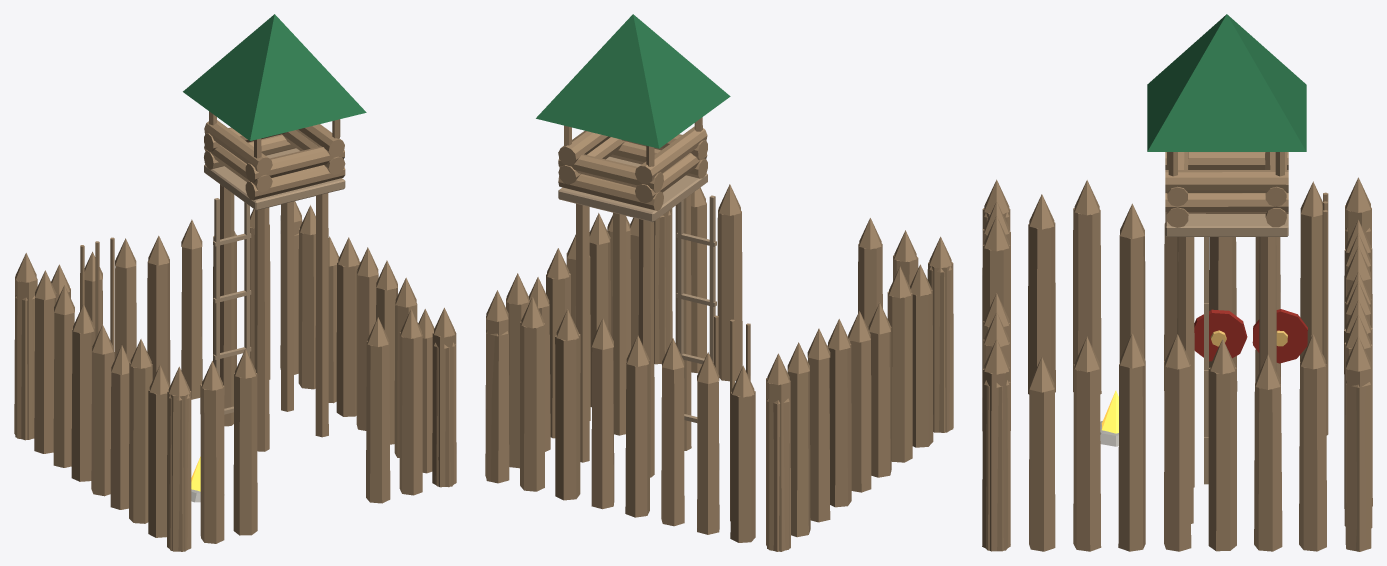
Rendered from bld_zastava_e2.glb.
3 views of the same model, side by side, from view 1: azimuth 30°, elevation 25°; view 2: azimuth 150°, elevation 25°; view 3: azimuth 270°, elevation 25° (orthographic). The views are drawn at different scales.
Parts seen in each view (by area): view 1: zastava; view 2: zastava; view 3: zastava.
Part boxes in pixels (x1,y1,x2,y2): zastava: (14, 14, 456, 551); zastava: (485, 14, 953, 551); zastava: (982, 14, 1372, 551).
Size of the model in its own units: 0.9513 by 1.32 by 0.9504.
